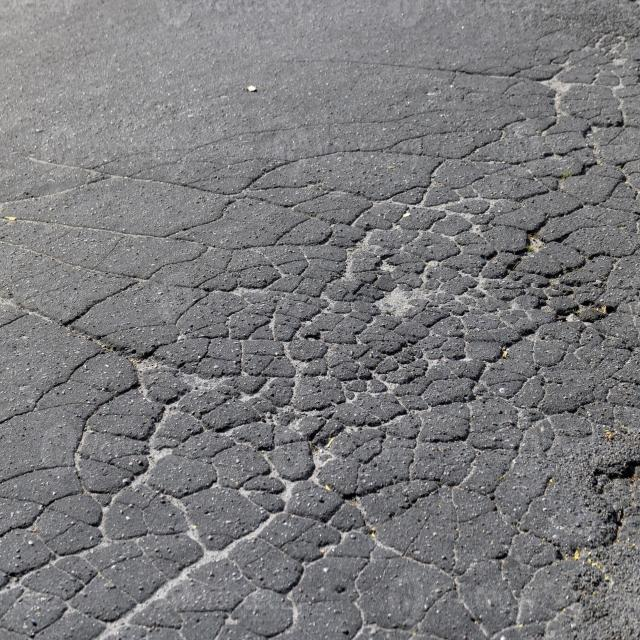Drain Hole: (63, 139, 640, 640)
